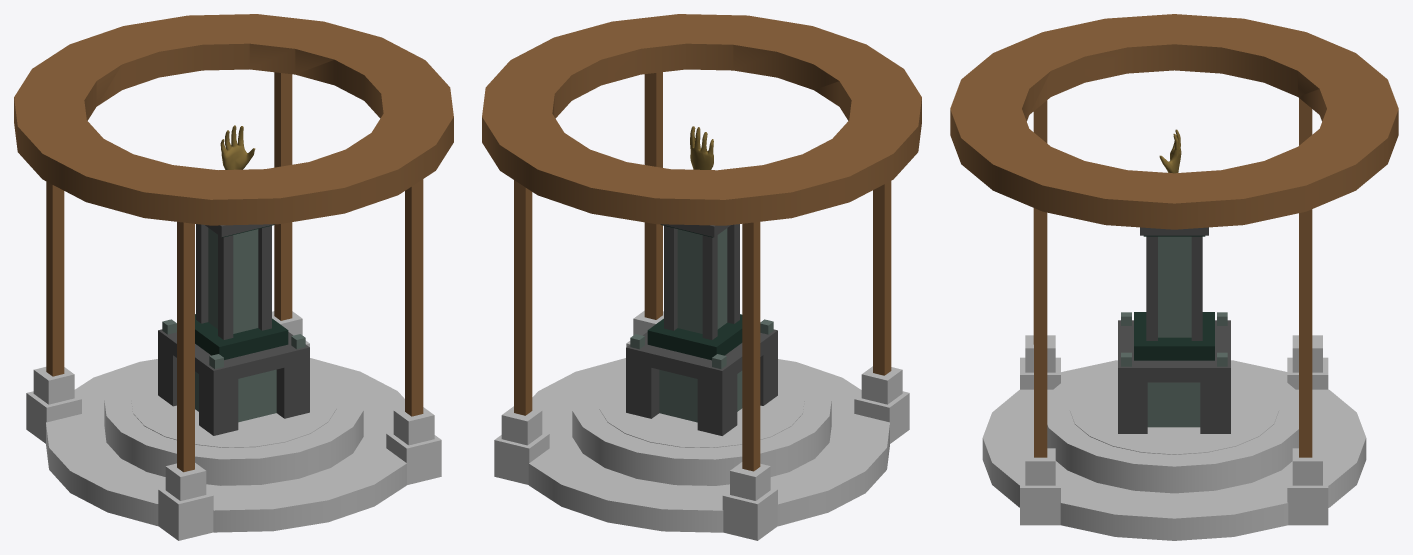
File: Shrine_v1.fbx
3 views of the same model, side by side, from view 1: azimuth 30°, elevation 25°; view 2: azimuth 150°, elevation 25°; view 3: azimuth 270°, elevation 25° (orthographic).
Parts seen in each view (by area): view 1: pCylinder20, pCylinder13, pCylinder16, pCube1, pCylinder19, pCube42, pCube43, pCube13, pCube44, pCube45, pCube14, pCube4 (+7 smaller); view 2: pCylinder20, pCylinder13, pCylinder16, pCube1, pCylinder19, pCube45, pCube13, pCube44, pCube14, pCube42, pCube43, pCube2 (+7 smaller); view 3: pCylinder20, pCylinder13, pCylinder16, pCube1, pCylinder19, pCube14, pCube43, pCube44, pCube13, pCube2, pCube11, pCube7 (+8 smaller).
Part boxes in pixels (left/top/right/bottom): pCylinder20: left=14, top=14, right=453, bottom=225; pCylinder13: left=46, top=358, right=406, bottom=532; pCylinder16: left=104, top=360, right=363, bottom=485; pCube1: left=158, top=329, right=309, bottom=435; pCylinder19: left=131, top=374, right=336, bottom=447; pCube42: left=177, top=222, right=194, bottom=472; pCube43: left=405, top=179, right=423, bottom=416; pCube13: left=196, top=224, right=271, bottom=339; pCube44: left=274, top=72, right=292, bottom=320; pCube45: left=46, top=181, right=64, bottom=376; pCube14: left=208, top=228, right=258, bottom=333; pCube4: left=158, top=487, right=213, bottom=540; pCylinder20: left=482, top=14, right=921, bottom=225; pCylinder13: left=528, top=358, right=889, bottom=532; pCylinder16: left=572, top=360, right=831, bottom=485; pCube1: left=626, top=329, right=777, bottom=435; pCylinder19: left=599, top=375, right=804, bottom=447; pCube45: left=742, top=222, right=760, bottom=471; pCube13: left=664, top=224, right=739, bottom=339; pCube44: left=514, top=180, right=532, bottom=415; pCube14: left=677, top=228, right=727, bottom=333; pCube42: left=873, top=181, right=891, bottom=375; pCube43: left=644, top=72, right=662, bottom=319; pCube2: left=647, top=314, right=742, bottom=360; pCylinder20: left=950, top=14, right=1398, bottom=229; pCylinder13: left=982, top=360, right=1366, bottom=540; pCylinder16: left=1047, top=361, right=1298, bottom=493; pCube1: left=1118, top=320, right=1230, bottom=433; pCylinder19: left=1069, top=373, right=1279, bottom=454; pCube14: left=1158, top=236, right=1191, bottom=337; pCube43: left=1034, top=208, right=1047, bottom=457; pCube44: left=1299, top=209, right=1312, bottom=457; pCube13: left=1146, top=236, right=1202, bottom=340; pCube2: left=1134, top=312, right=1214, bottom=360; pCube11: left=1287, top=470, right=1328, bottom=525; pCube7: left=1020, top=470, right=1060, bottom=525.
Size of the model in its own units: 13.41 by 11.59 by 13.41.
